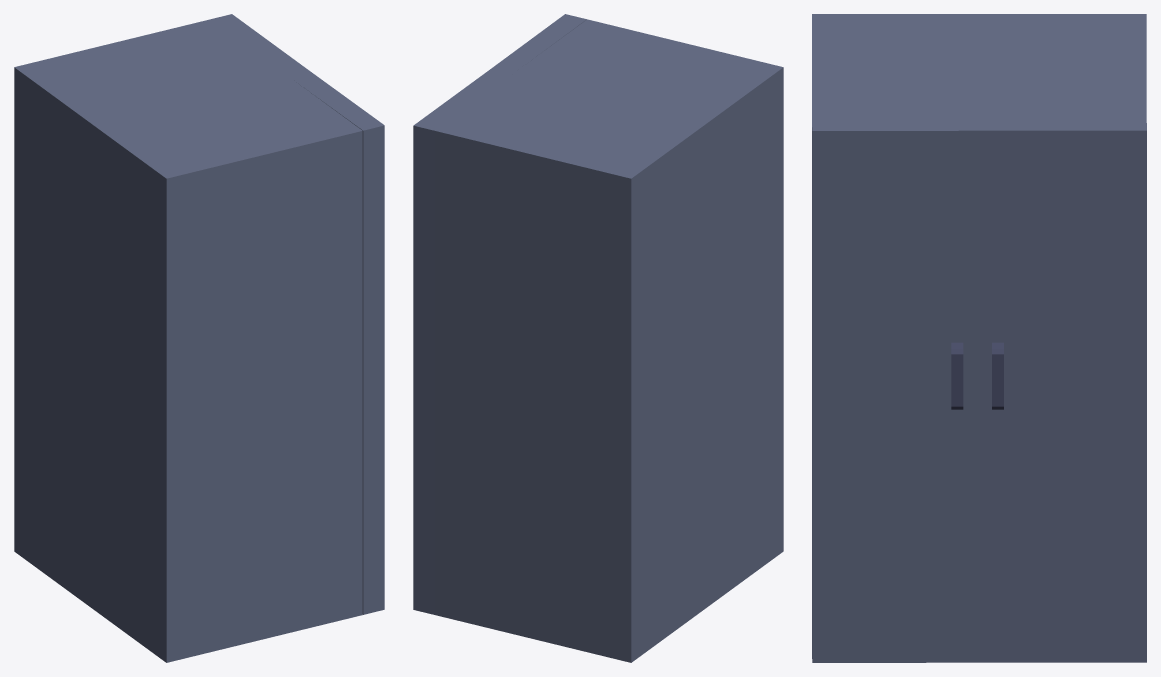
File: f_cabinet_02.fbx
The picture shows the model from 3 angles, left to right: view 1: azimuth 30°, elevation 25°; view 2: azimuth 150°, elevation 25°; view 3: azimuth 270°, elevation 25°; orthographic projection. The views are drawn at different scales.
Parts seen in each view (by area): view 1: f_shelf_body, f_top, f_left_door, f_bottom, f_right_door; view 2: f_shelf_body, f_top, f_right_door, f_bottom, f_left_door; view 3: f_left_door, f_right_door, f_top.
Part boxes in pixels (left/top/right/bottom): f_shelf_body: left=14, top=82, right=362, bottom=648; f_top: left=14, top=19, right=362, bottom=192; f_left_door: left=287, top=70, right=384, bottom=614; f_bottom: left=14, top=537, right=362, bottom=662; f_right_door: left=211, top=14, right=307, bottom=74; f_shelf_body: left=435, top=81, right=783, bottom=648; f_top: left=435, top=19, right=783, bottom=192; f_right_door: left=413, top=70, right=510, bottom=614; f_bottom: left=435, top=537, right=783, bottom=662; f_left_door: left=490, top=14, right=586, bottom=74; f_left_door: left=812, top=119, right=979, bottom=662; f_right_door: left=979, top=119, right=1146, bottom=662; f_top: left=812, top=14, right=1146, bottom=119.
Size of the model in its own units: 113 by 99.23 by 198.
